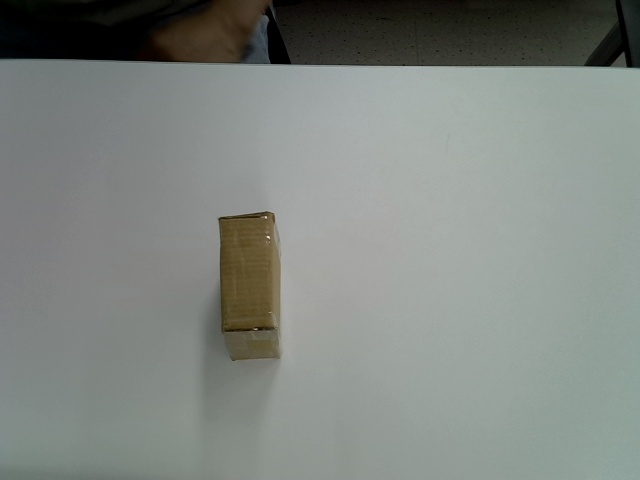normal: (219, 211, 283, 362)
